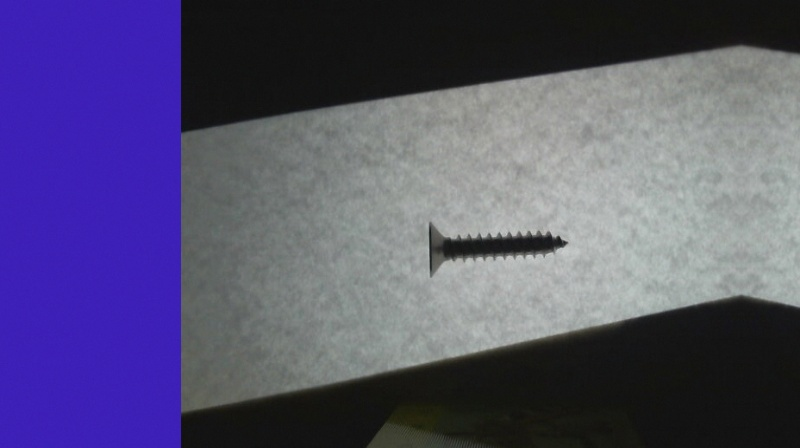S001: (424, 219, 569, 280)
